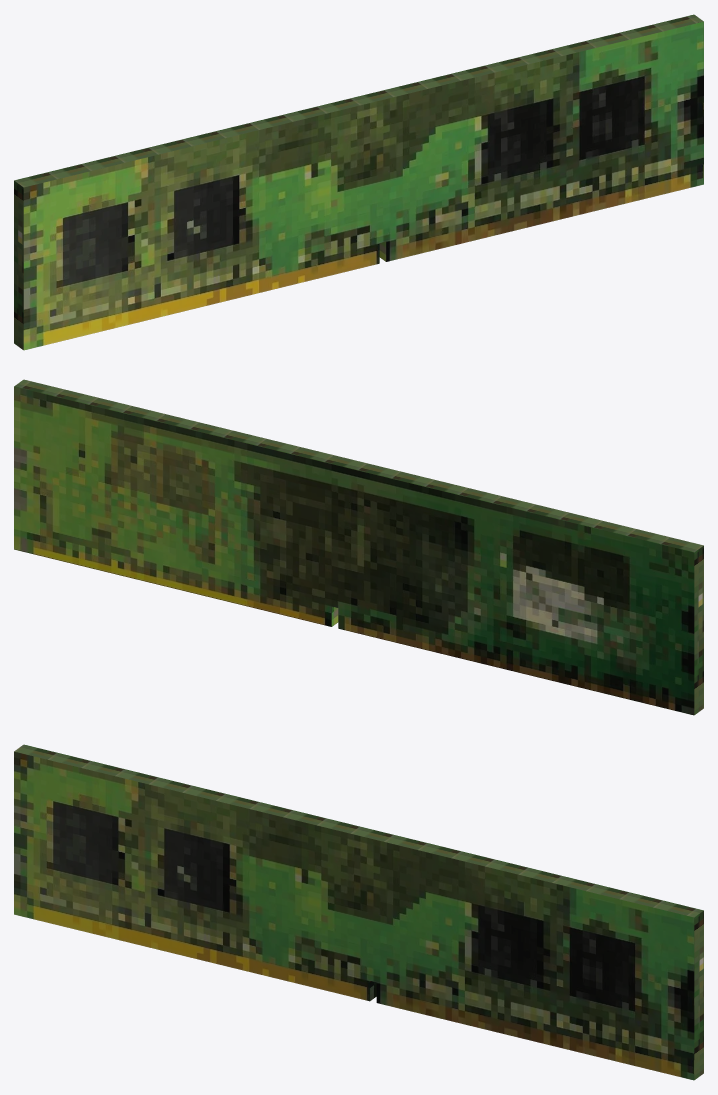
The model's file is ddr2_memory_low_poly_psx.glb.
3 views of the same model, one above another, from view 1: azimuth 30°, elevation 25°; view 2: azimuth 150°, elevation 25°; view 3: azimuth 330°, elevation 25° (orthographic).
Visible parts, largest first — view 1: 3DGeom-2, 3DGeom-3; view 2: 3DGeom-1, 3DGeom-3; view 3: 3DGeom-2, 3DGeom-3.
Part boxes in pixels (<box>): 3DGeom-2: <box>23,21,703,350</box>; 3DGeom-3: <box>14,14,703,349</box>; 3DGeom-1: <box>14,386,694,715</box>; 3DGeom-3: <box>14,379,703,714</box>; 3DGeom-2: <box>14,751,694,1080</box>; 3DGeom-3: <box>14,744,703,1079</box>.
Bounding box in the file's own units: 0.0634 × 0.0145 × 0.00157.
Materials: 3 (3 with a texture image).
